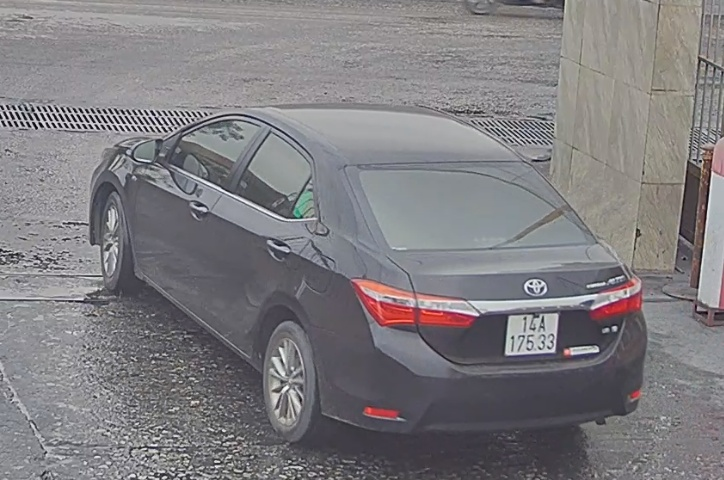vehicle plate: (499, 304, 564, 358)
